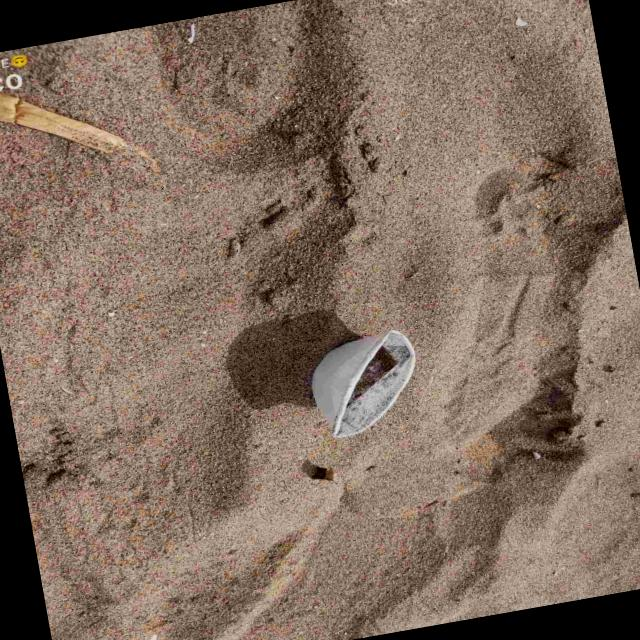ly_hop_giay: (311, 330, 415, 437)
